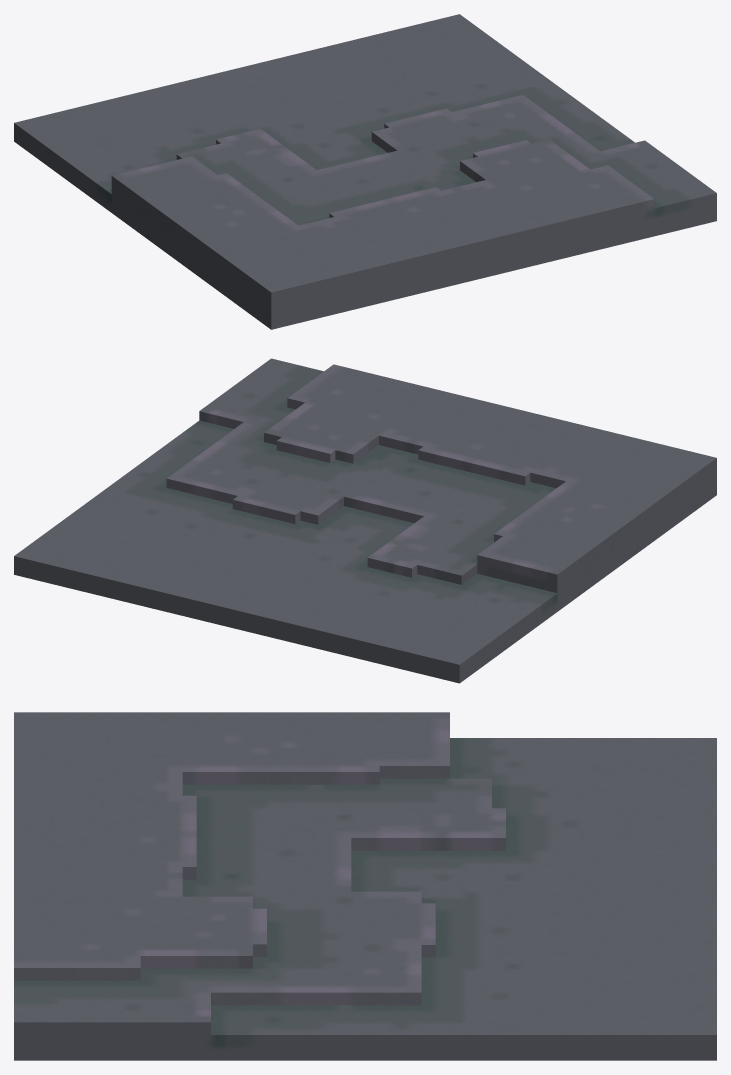
Rendered from GroundTile_010.fbx.
3 renders of one model, top to bottom at view 1: azimuth 30°, elevation 25°; view 2: azimuth 150°, elevation 25°; view 3: azimuth 270°, elevation 25°, orthographic. The views are drawn at different scales.
Parts seen in each view (by area): view 1: GroundTile_010; view 2: GroundTile_010; view 3: GroundTile_010.
Boxes of the visible parts, <box> form: GroundTile_010: <box>14,14,716,329</box>; GroundTile_010: <box>14,358,716,683</box>; GroundTile_010: <box>14,712,716,1060</box>.
Size of the model in its own units: 250 by 20 by 250.
